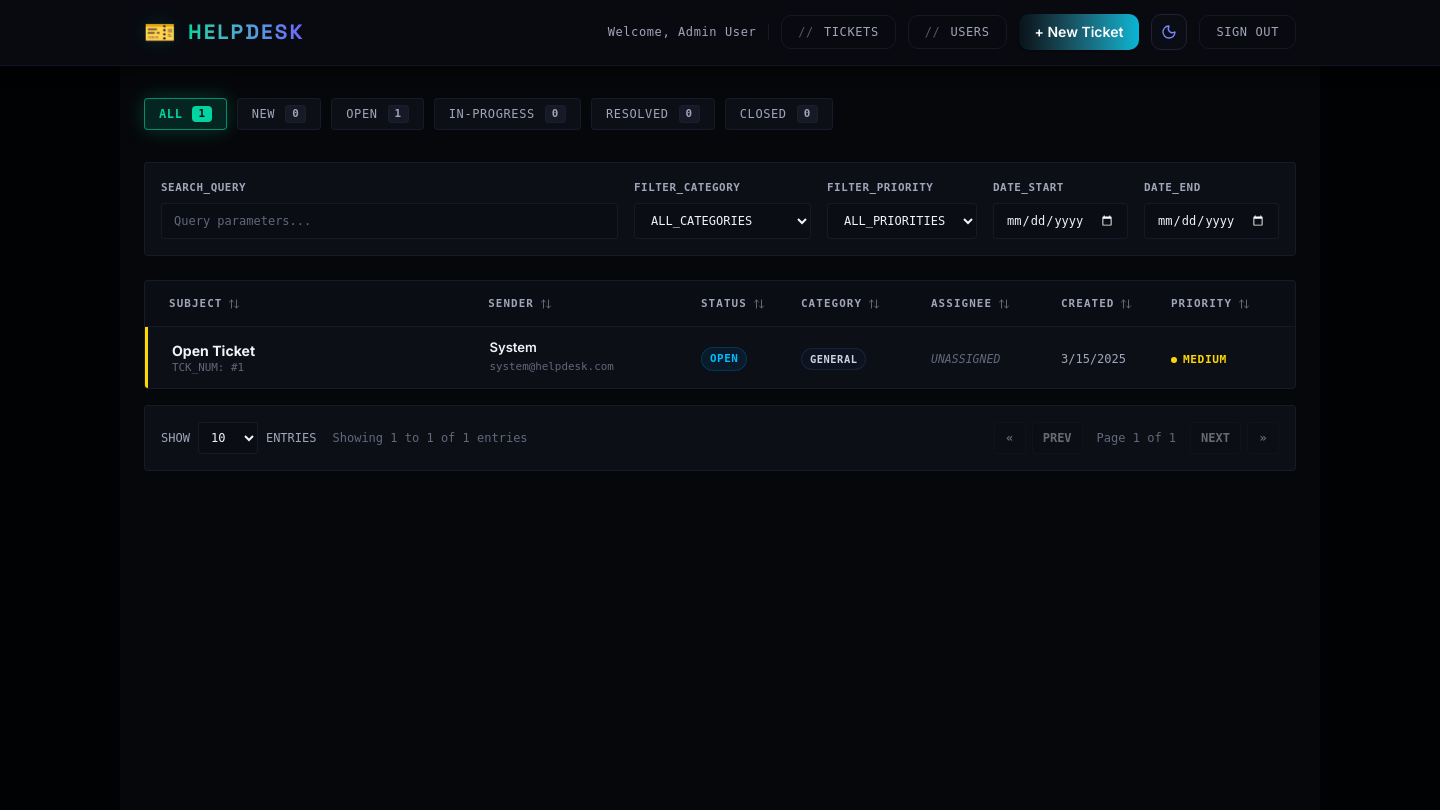
Test: TicketsList › should show the empty state when the active filter has no matching tickets
The image size is (1440, 810).
Expected: the heading "Open Ticket" is shown, [172,342,255,359]
Click the button "in-progress 0" at (507, 114), box [434,98,581,130]
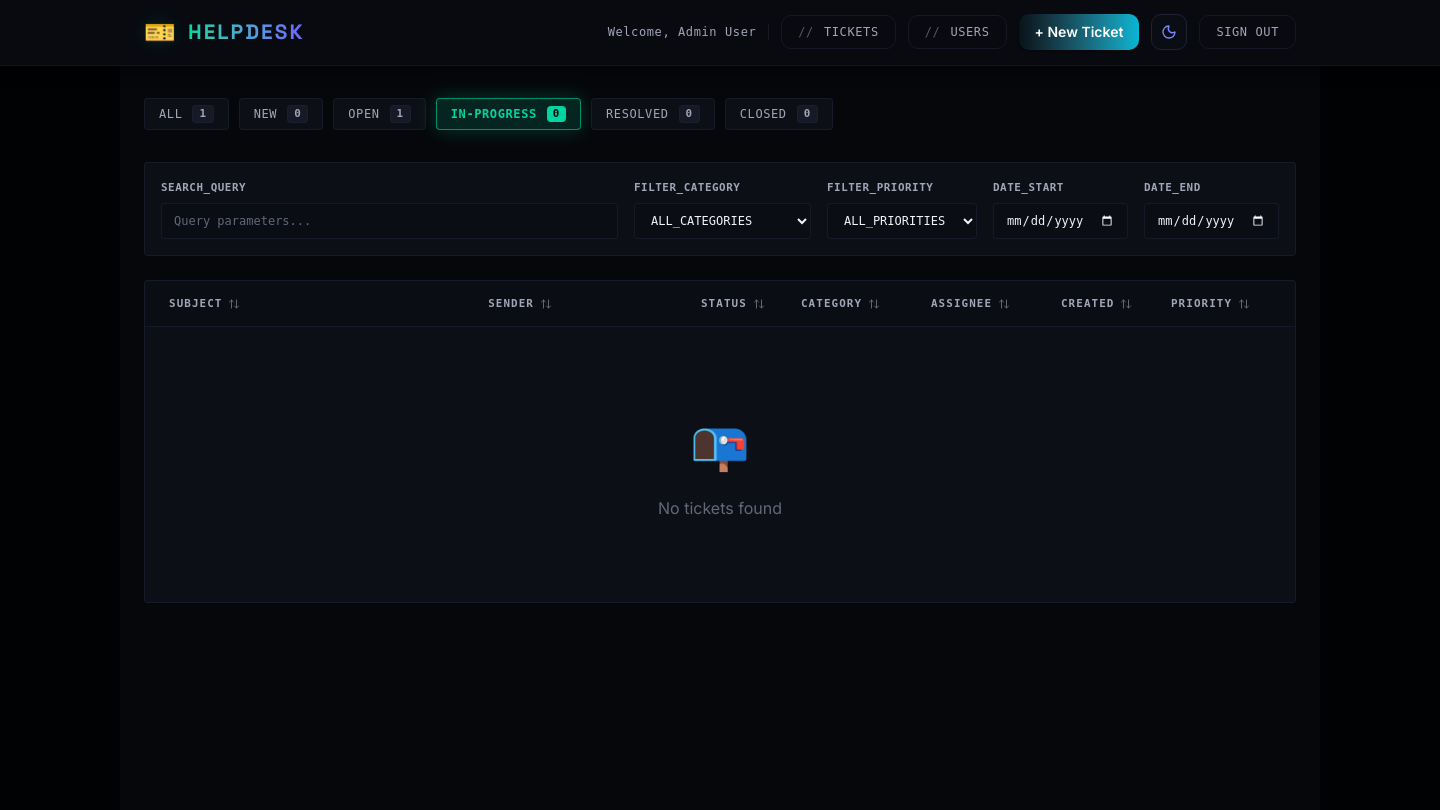
Expected: the link "Open Ticket" is gone
Expected: the text "No tickets found" is shown, [658,498,782,518]
